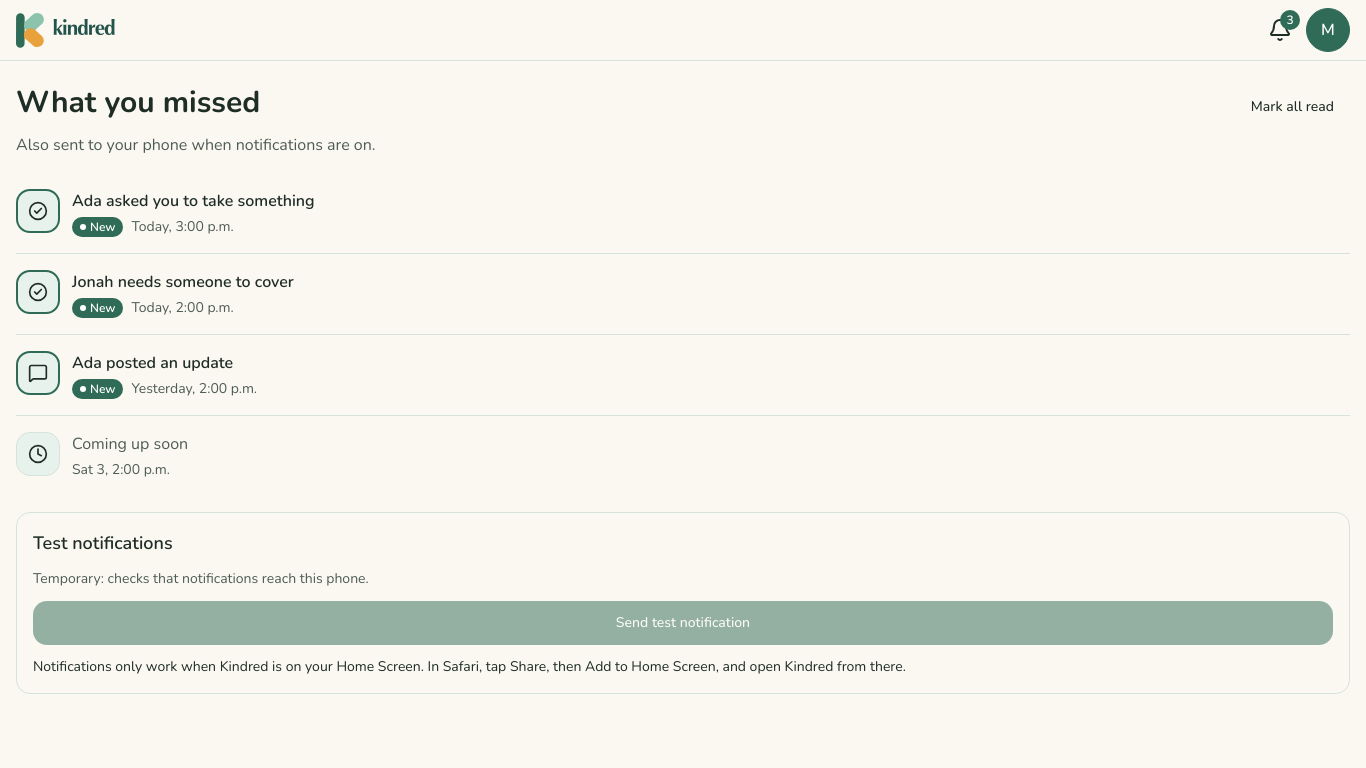
Mark all read clears every unread mark and the badge
The width and height of the screenshot is (1366, 768).
What coordinates should you click on to do the following:
click the button "Mark all read"
I would click on:
 (1292, 107)
Its box is [1235,85,1350,129].
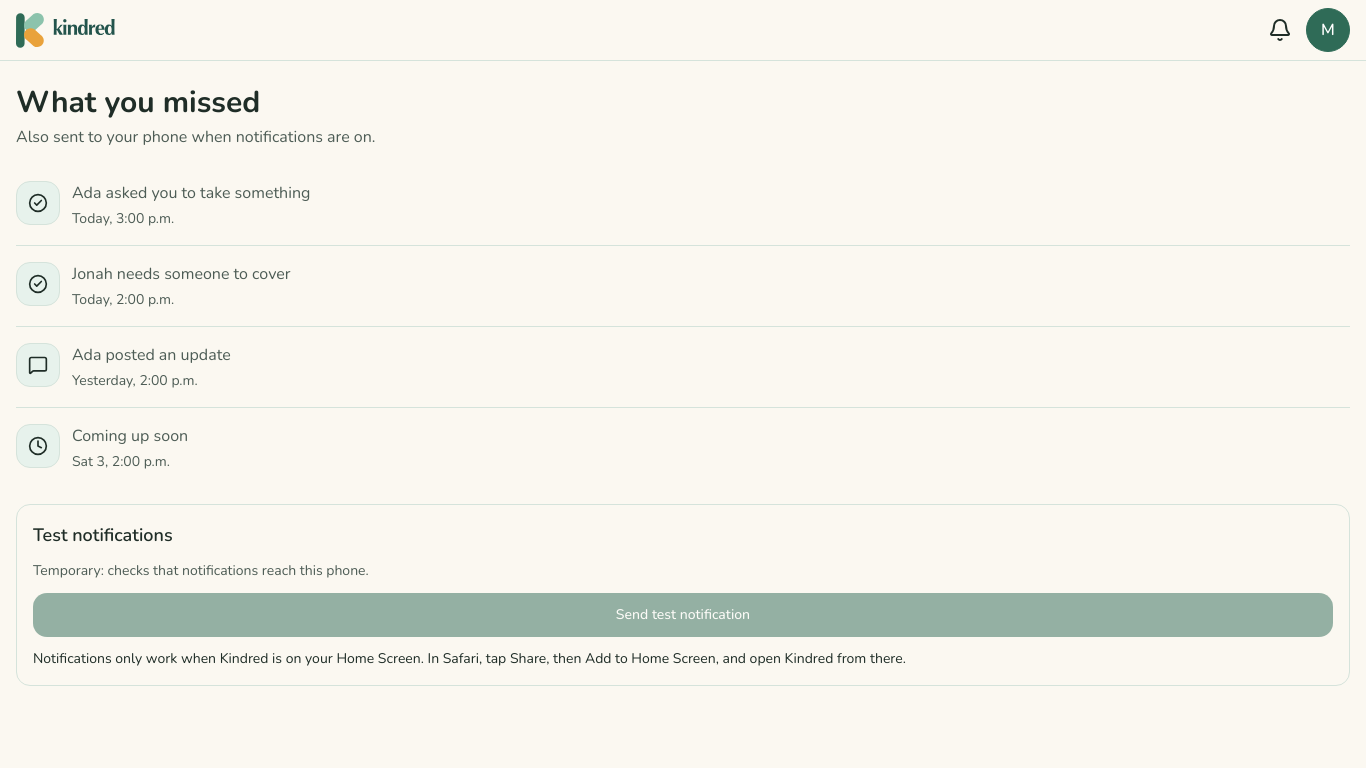
Check: the text "New" is gone
Check: the button "Mark all read" is gone
